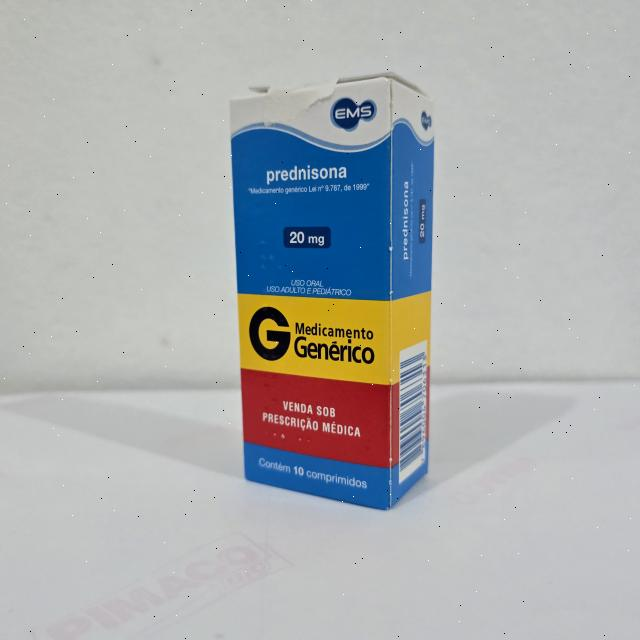prednisona: (223, 64, 434, 515)
